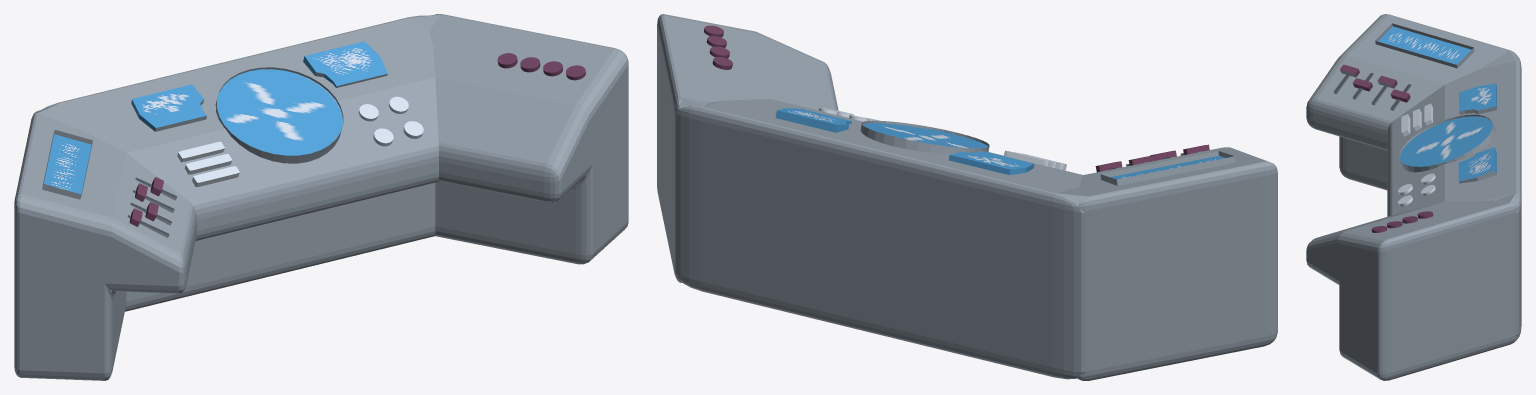
The model's file is Navigation-panel.glb.
3 views of the same model, side by side, from view 1: azimuth 30°, elevation 25°; view 2: azimuth 150°, elevation 25°; view 3: azimuth 270°, elevation 25° (orthographic). The views are drawn at different scales.
Visible parts, largest first — view 1: Cube.014; view 2: Cube.014; view 3: Cube.014.
Boxes of the visible parts, x1,y1,x2,y2 form: Cube.014: [14, 14, 628, 380]; Cube.014: [657, 14, 1277, 380]; Cube.014: [1306, 14, 1521, 380].
Size of the model in its own units: 14.25 by 4.11 by 5.61.
Materials: 1 (1 with a texture image).
